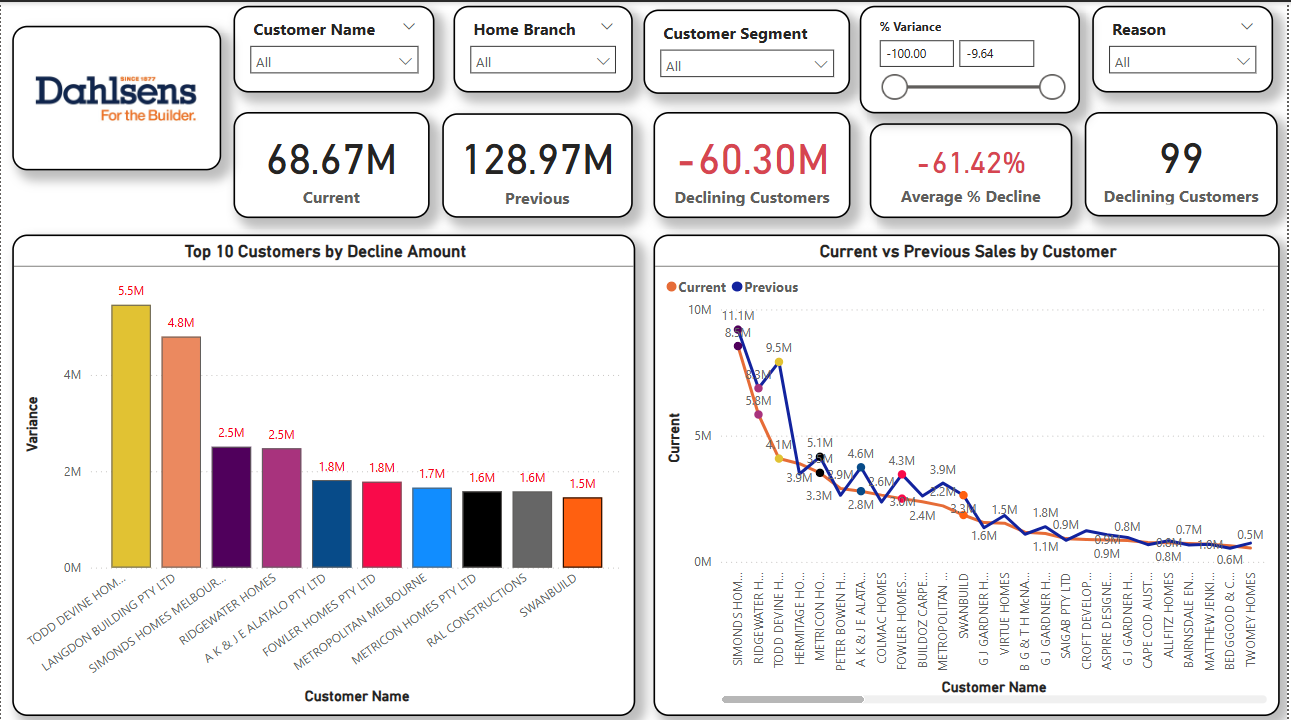

What the dashboard file says about the page in this screenshot:
{"tool":"powerbi","page":{"name":"Decliners","canvas":[1280,720],"ordinal":0},"visuals":[{"type":"card","fields":{"Values":["Sum(Decliners.Variance)"]},"box":[649.1,109.8,196.2,105.7],"z":0},{"type":"card","fields":{"Values":["Sum(Decliners.Current)"]},"box":[231.9,109.8,194.9,105.7],"z":1000},{"type":"card","fields":{"Values":["Sum(Decliners.Previous)"]},"box":[439.1,111.1,189.4,104.3],"z":2000},{"type":"card","fields":{"Values":["Decliners.Average % Decline"]},"box":[864.5,120.8,201.7,94.7],"z":3000},{"type":"card","fields":{"Values":["Decliners.Declining Customers"]},"box":[1078.6,109.8,192.1,104.3],"z":4000},{"type":"clusteredColumnChart","title":"Top 10 Customers by Decline Amount","fields":{"Category":["Decliners.Customer Name"],"Y":["Sum(Decliners.Positive Variance for Visual)"]},"box":[11,231.9,620.2,478.9],"z":5000},{"type":"lineChart","title":"Current vs Previous Sales by Customer","fields":{"Category":["Decliners.Customer Name"],"Y":["Sum(Decliners.Current)"],"Y2":["Sum(Decliners.Previous)"]},"box":[649.1,231.9,623,478.9],"z":6000},{"type":"slicer","fields":{"Values":["Decliners.Customer Name"]},"box":[231.9,4.1,200.3,86.4],"z":7000},{"type":"slicer","fields":{"Values":["Decliners.Home Branch"]},"box":[450.1,4.1,178.4,86.4],"z":8000},{"type":"slicer","fields":{"Values":["Decliners.Customer Segment"]},"box":[639.5,6.9,205.8,83.7],"z":9000},{"type":"slicer","fields":{"Values":["Decliners.Reason"]},"box":[1085.4,4.1,179.8,86.4],"z":10000},{"type":"slicer","fields":{"Values":["Decliners.% Variance"]},"box":[854.9,4.1,219.6,107],"z":11000},{"type":"image","box":[11.2,23.6,207.7,144.3],"z":12000}]}

Visuals, with their boxes in screenshot pixels (x1, y1, x2, y2), scaled from the page's 1280x720 canvas onto the 1291x720 screenshot:
card - Sum(Decliners.Variance): (655,110,853,216)
card - Sum(Decliners.Current): (234,110,430,216)
card - Sum(Decliners.Previous): (443,111,634,215)
card - Decliners.Average % Decline: (872,121,1075,216)
card - Decliners.Declining Customers: (1088,110,1282,214)
"Top 10 Customers by Decline Amount" clusteredColumnChart: (11,232,637,711)
"Current vs Previous Sales by Customer" lineChart: (655,232,1283,711)
slicer - Decliners.Customer Name: (234,4,436,90)
slicer - Decliners.Home Branch: (454,4,634,90)
slicer - Decliners.Customer Segment: (645,7,853,91)
slicer - Decliners.Reason: (1095,4,1276,90)
slicer - Decliners.% Variance: (862,4,1084,111)
image: (11,24,221,168)
